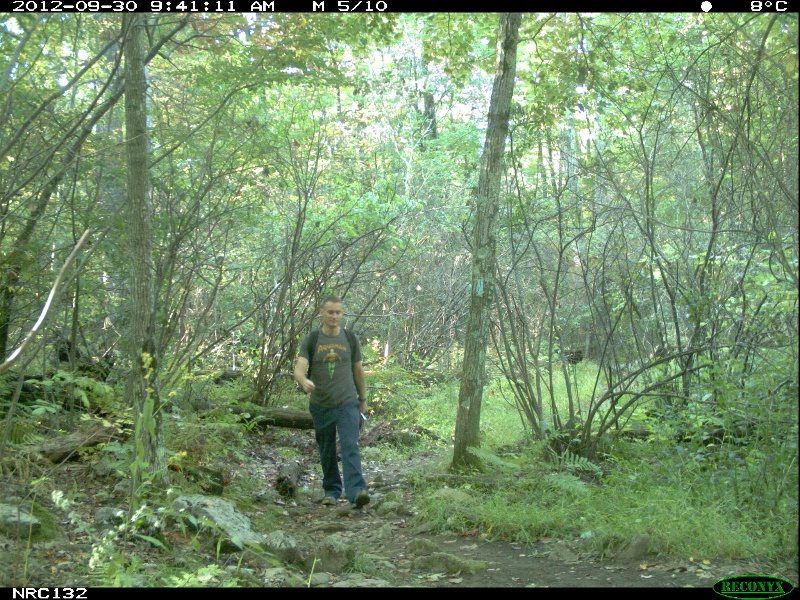human: (294, 293, 372, 510)
human face: (322, 297, 345, 331)
human legs: (304, 398, 374, 509)
